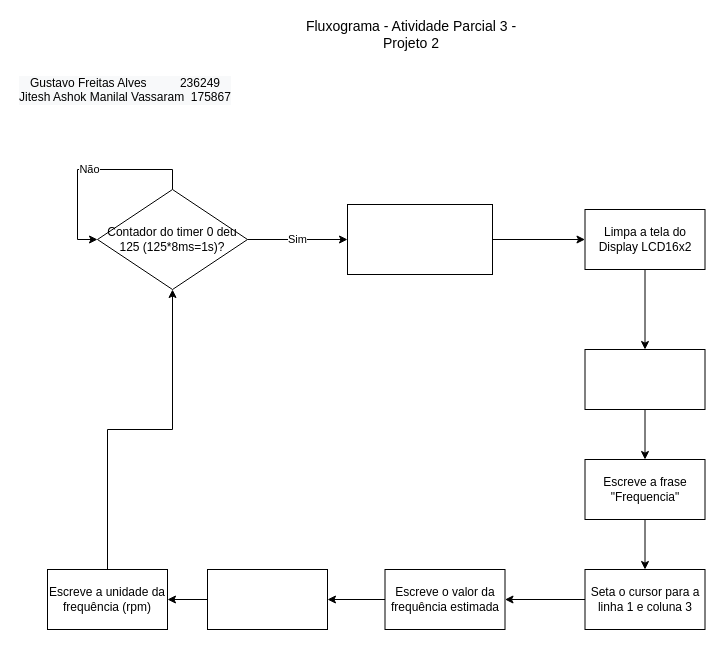
The diagram is 722 pixels wide and 647 high, and some of its shapes have lost their labels. Here are the shapes that lost their labels. From the top down, the centre of each, then its label:
At pixel 419 239: "Calcula a frequência de rotação através do número de variações de nível lógico".
At pixel 644 379: "Seta o cursor para a linha 0 e coluna 0".
At pixel 267 599: "Seta o cursor para a linha 1 e coluna 7".
